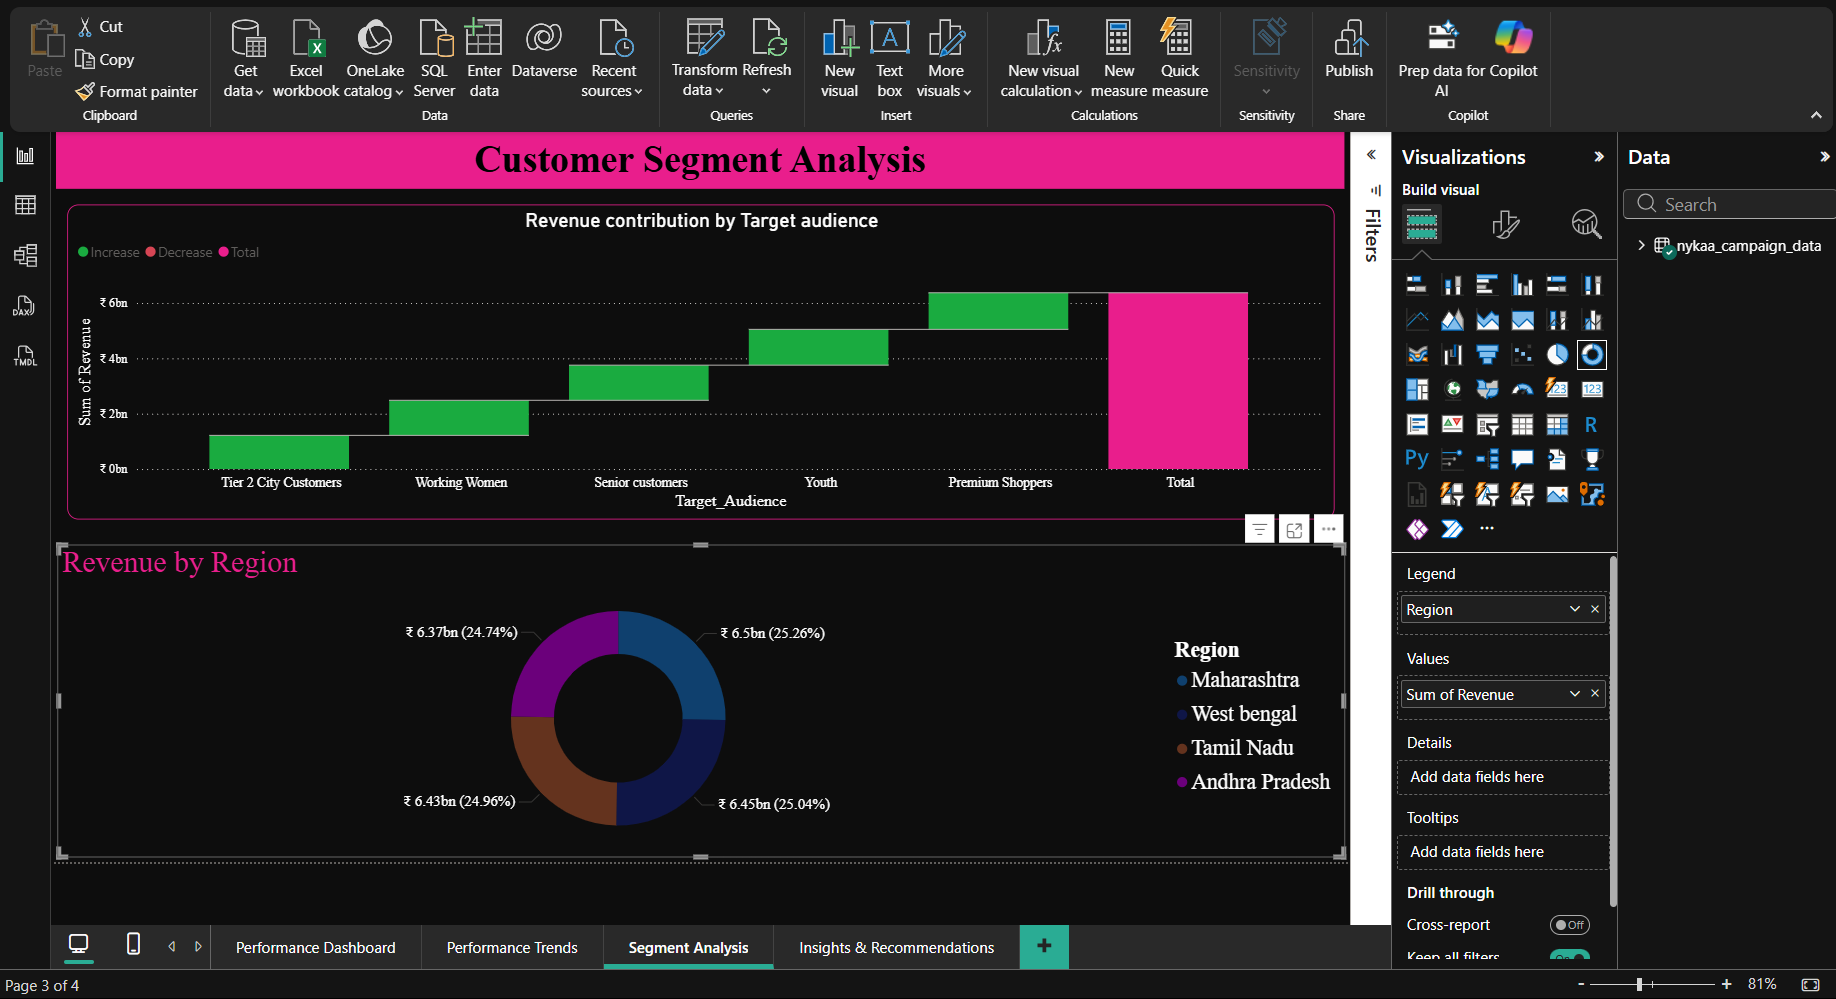

This screenshot's page, from the dashboard's own definition file:
{"tool":"powerbi","page":{"name":"Segment Analysis","canvas":[1280,720],"ordinal":2},"visuals":[{"type":"textbox","box":[5.3,0,1269.4,55.8],"z":0},{"type":"waterfallChart","title":"Revenue contribution by Target audience","fields":{"Category":["nykaa_campaign_data.Target_Audience"],"Y":["Sum(nykaa_campaign_data.Revenue)"]},"box":[16,71.4,1249,310.4],"z":1000},{"type":"donutChart","title":"Revenue by Region","fields":{"Category":["nykaa_campaign_data.Region"],"Y":["Sum(nykaa_campaign_data.Revenue)"]},"box":[6,406,1269,310],"z":2000}]}

Visuals, with their boxes on the page's 1280x720 design canvas (x1, y1, x2, y2). These are canvas units, not pixel positions in the 1836x999 screenshot, which may show the page scaled, cropped or inside an application window:
textbox: select_region(5, 0, 1275, 56)
"Revenue contribution by Target audience" waterfallChart: select_region(16, 71, 1265, 382)
"Revenue by Region" donutChart: select_region(6, 406, 1275, 716)
